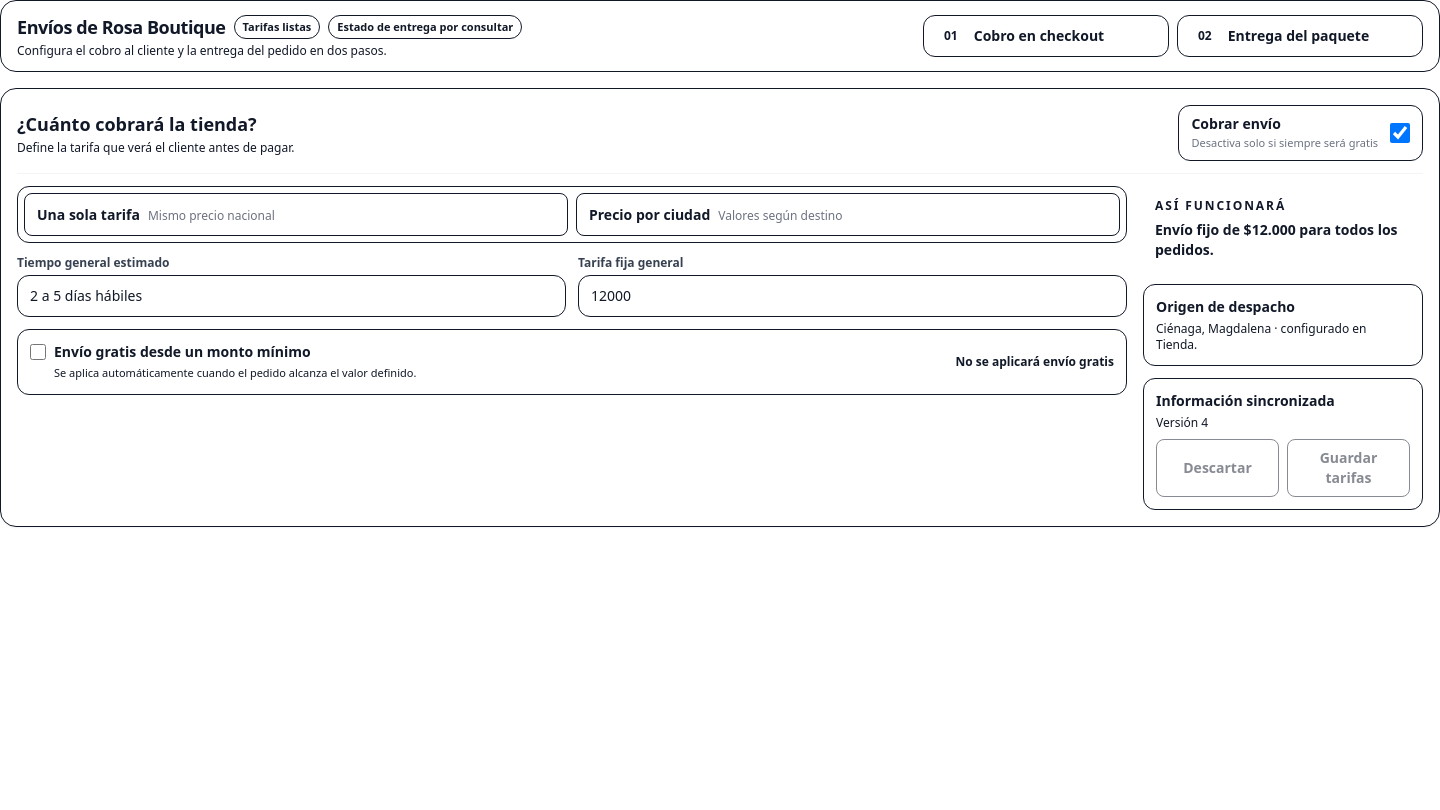
Test: EnviosSection › bloquea el envío gratis accidental cuando no hay compra mínima
This screenshot has width=1440, height=810.
Expected: the heading "¿Cuánto cobrará la tienda?" is shown, [17,110,294,138]
Click the checkbox labelled "Envío gratis desde un monto mínimo": x=38, y=352 [30,344,46,360]
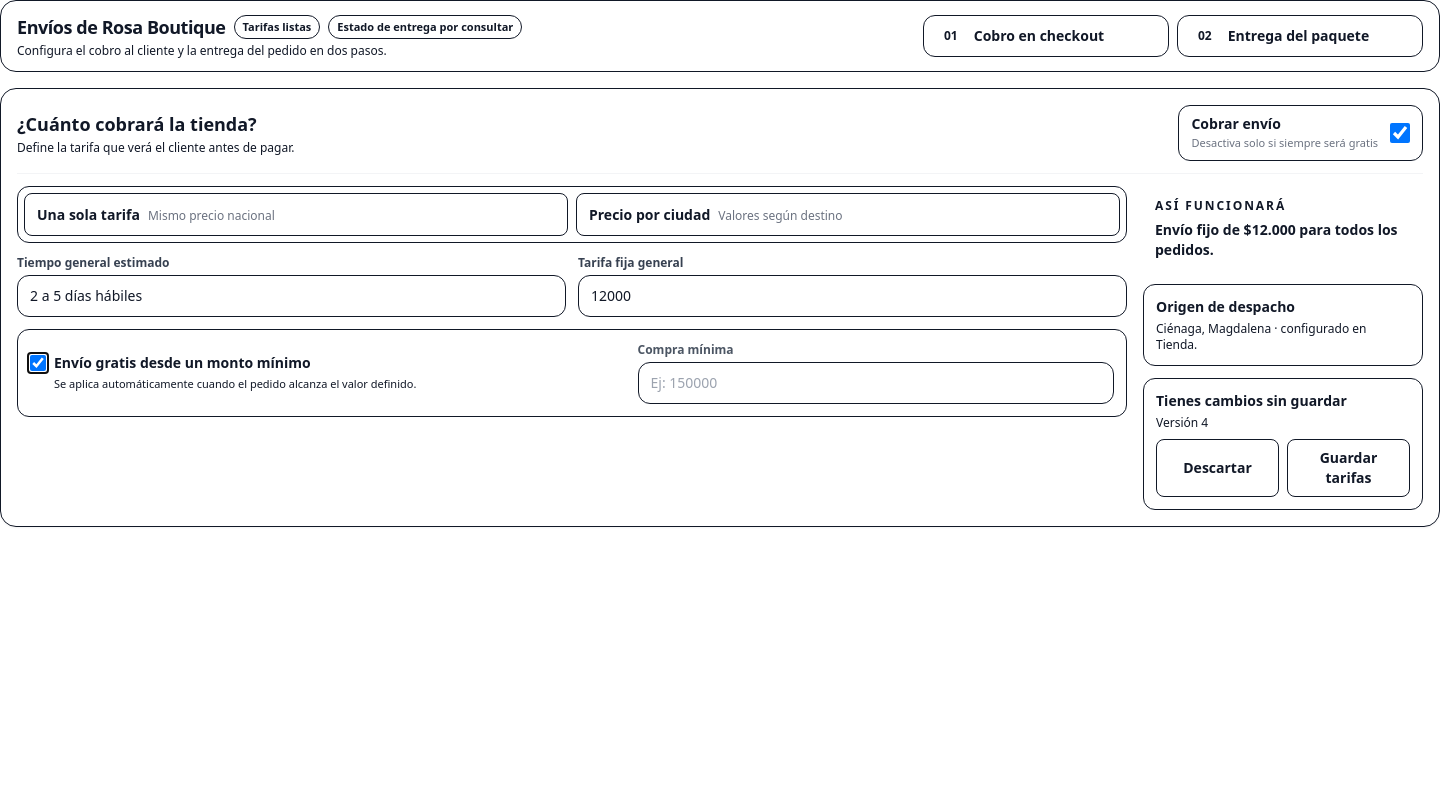
Click the button "Guardar tarifas": x=1348, y=468 [1287,439,1410,497]
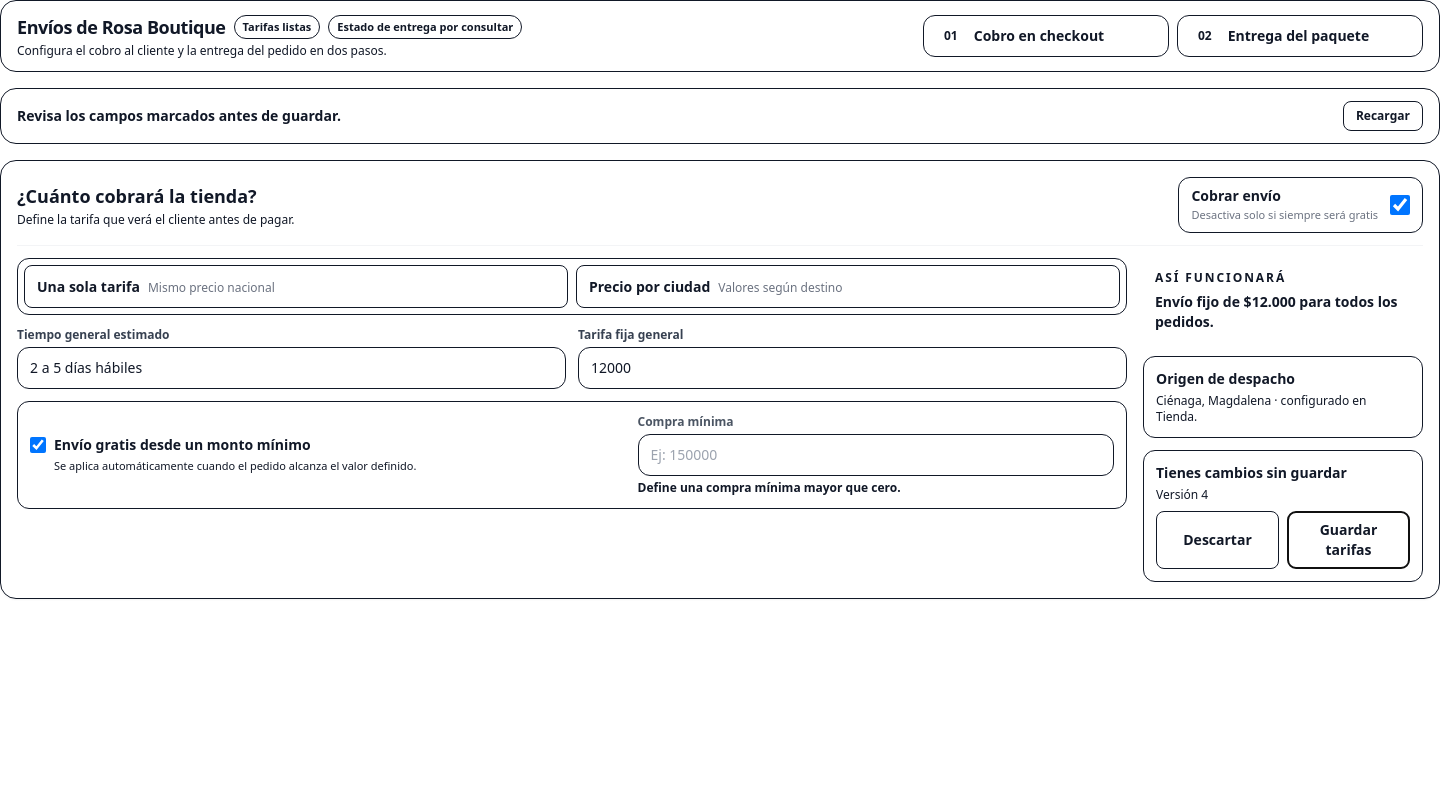
Result: the text "Define una compra mínima mayor que cero." is shown at [638,479,901,496]
